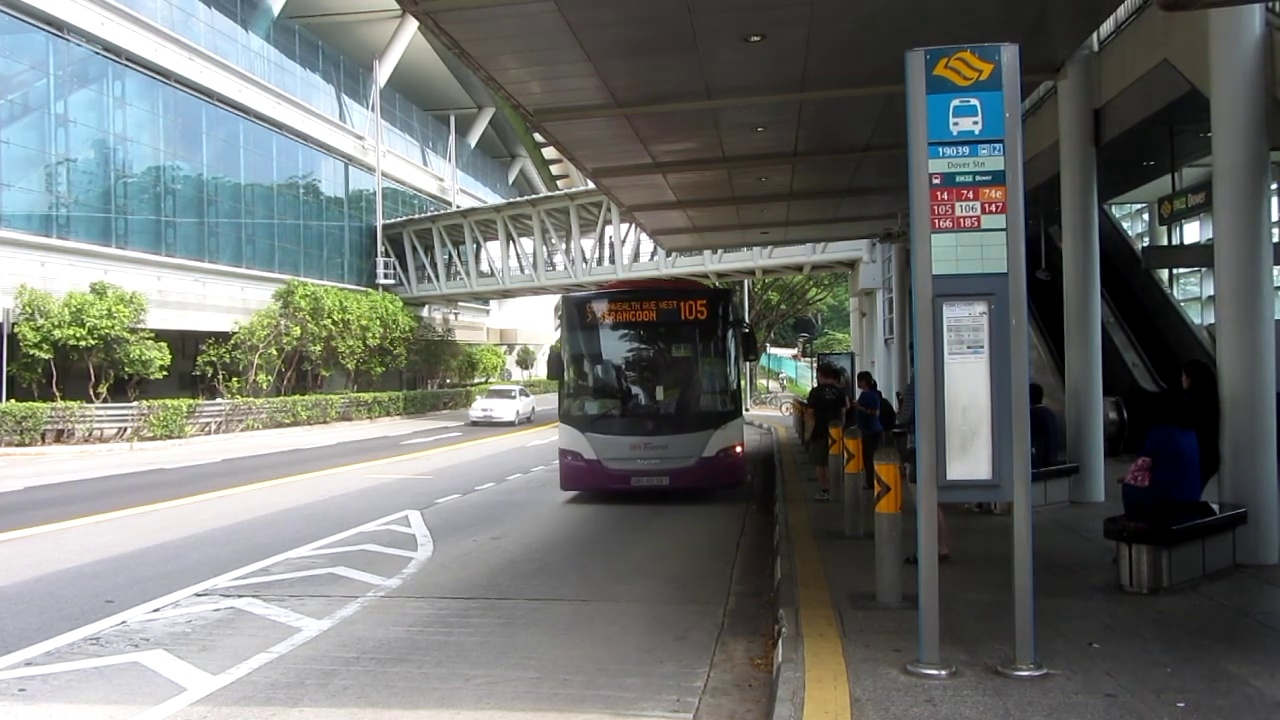bus panel: (583, 298, 712, 323)
